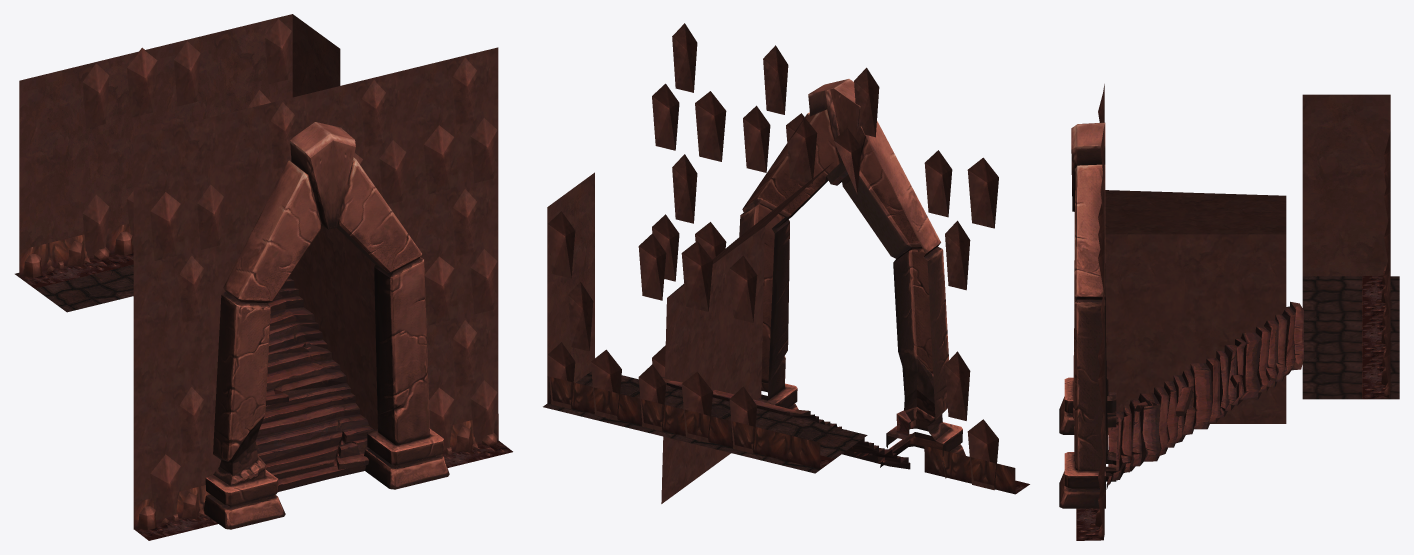
File: lava_entry_stairs_01.fbx
3 views of the same model, side by side, from view 1: azimuth 30°, elevation 25°; view 2: azimuth 150°, elevation 25°; view 3: azimuth 270°, elevation 25° (orthographic). The views are drawn at different scales.
Parts seen in each view (by area): view 1: obj6.001; view 2: obj6.001; view 3: obj6.001.
Boxes of the visible parts, <box> form: obj6.001: <box>15,14,512,540</box>; obj6.001: <box>543,23,1029,503</box>; obj6.001: <box>1059,84,1399,540</box>.
Bounding box in the file's own units: 16 × 16.5 × 14.02.
